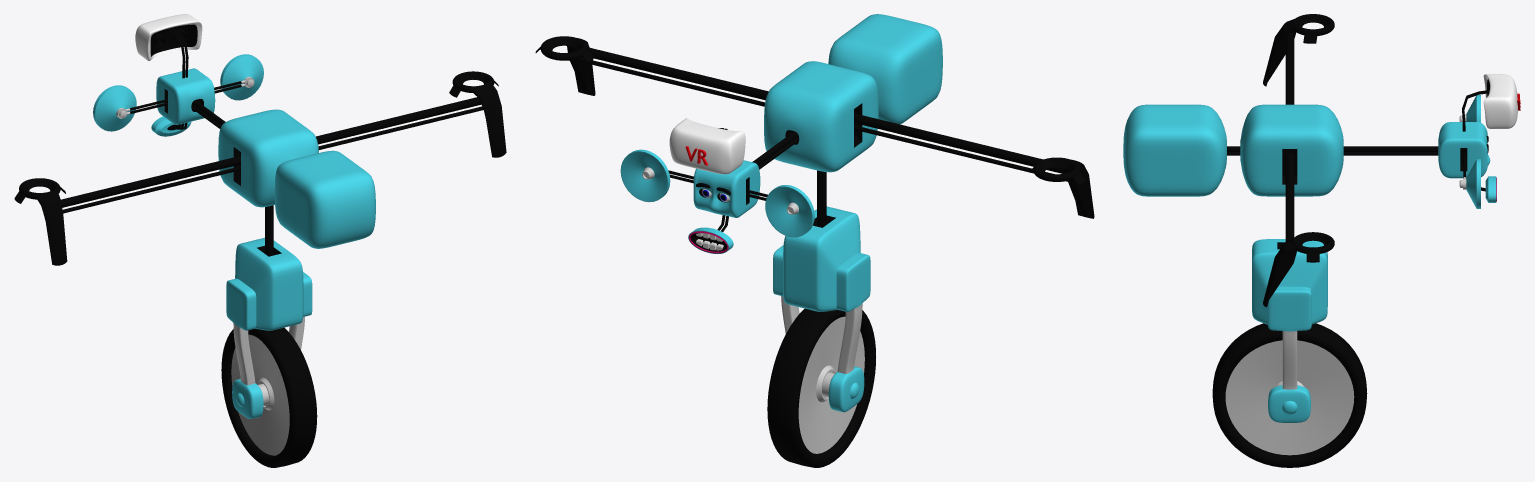
The model's file is robot.fbx.
3 renders of one model, left to right at view 1: azimuth 30°, elevation 25°; view 2: azimuth 150°, elevation 25°; view 3: azimuth 270°, elevation 25°, orthographic. The views are drawn at different scales.
Parts seen in each view (by area): view 1: Torus, Cube, Cube.007, Cube.001, Cylinder.001, Cylinder.006, Cube.002, Cube.008, Circle, Circle.002; view 2: Torus, Cube, Cube.001, Cube.007, Cylinder.001, Cylinder.006, Cube.008, Cube.002, Circle.002, Circle, Circle.001; view 3: Torus, Cube.007, Cube.001, Cube, Cylinder.006, Cube.002, Cylinder.001, Cube.008, Cylinder.002, Circle.002.
Boxes of the visible parts, box(x1,y1,x2,y2) form: Torus: box(221, 327, 317, 467); Cube: box(226, 237, 312, 418); Cube.007: box(274, 150, 375, 248); Cube.001: box(218, 109, 318, 207); Cylinder.001: box(14, 156, 240, 265); Cylinder.006: box(316, 71, 506, 157); Cube.002: box(156, 68, 215, 124); Cube.008: box(135, 14, 202, 60); Circle: box(93, 85, 167, 131); Circle.002: box(214, 54, 263, 100); Torus: box(767, 308, 875, 467); Cube: box(773, 206, 870, 412); Cube.001: box(764, 61, 878, 172); Cube.007: box(828, 14, 942, 124); Cylinder.001: box(854, 113, 1094, 218); Cylinder.006: box(535, 36, 768, 106); Cube.008: box(669, 118, 745, 174); Cube.002: box(693, 160, 760, 217); Circle.002: box(620, 149, 693, 202); Circle: box(746, 185, 814, 237); Circle.001: box(688, 227, 733, 253); Torus: box(1212, 323, 1367, 467); Cube.007: box(1123, 104, 1226, 196); Cube.001: box(1240, 104, 1343, 196); Cube: box(1252, 239, 1327, 422); Cylinder.006: box(1263, 153, 1334, 307); Cube.002: box(1438, 122, 1490, 178); Cylinder.001: box(1263, 14, 1334, 104); Cube.008: box(1483, 74, 1517, 128); Cylinder.002: box(1343, 146, 1438, 155); Circle.002: box(1459, 154, 1480, 208).
Bounding box in the file's own units: 1509 × 1098 × 1045.
